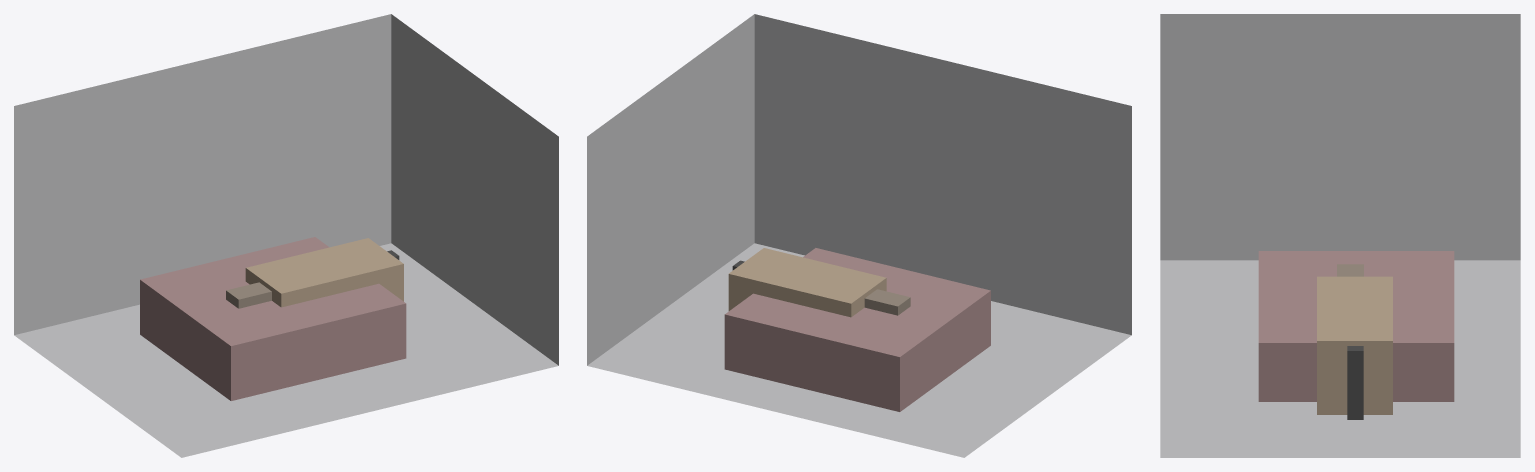
File: optimised_layout.glb
3 renders of one model, left to right at view 1: azimuth 30°, elevation 25°; view 2: azimuth 150°, elevation 25°; view 3: azimuth 270°, elevation 25°, orthographic. The views are drawn at different scales.
Parts seen in each view (by area): view 1: room, bed, desk, suitcase; view 2: room, bed, desk, suitcase; view 3: room, bed, desk, tv.
Part boxes in pixels (<box>): room: <box>14,14,558,457</box>; bed: <box>140,237,406,400</box>; desk: <box>245,238,403,307</box>; suitcase: <box>226,282,271,308</box>; room: <box>587,14,1131,457</box>; bed: <box>724,248,990,411</box>; desk: <box>728,248,886,317</box>; suitcase: <box>864,289,910,315</box>; room: <box>1160,14,1520,457</box>; bed: <box>1258,251,1454,401</box>; desk: <box>1317,276,1392,414</box>; tv: <box>1347,346,1363,419</box>.
Size of the model in its own units: 4.31 by 2.5 by 3.31.
